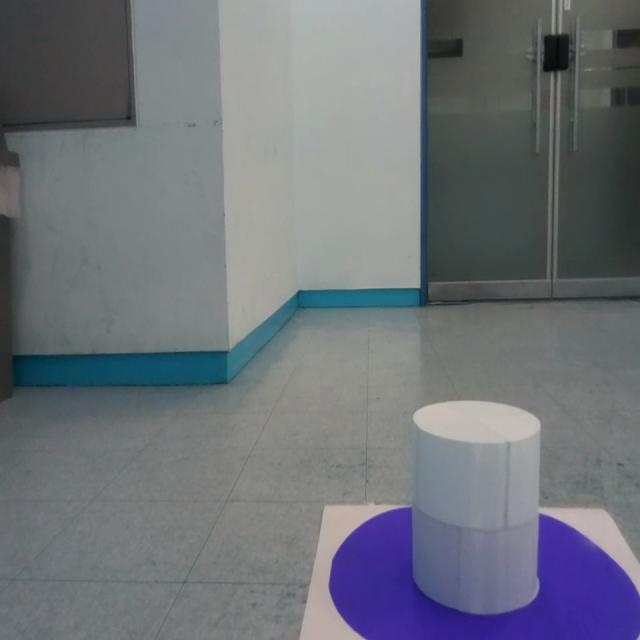cylinder: (411, 400, 543, 616)
